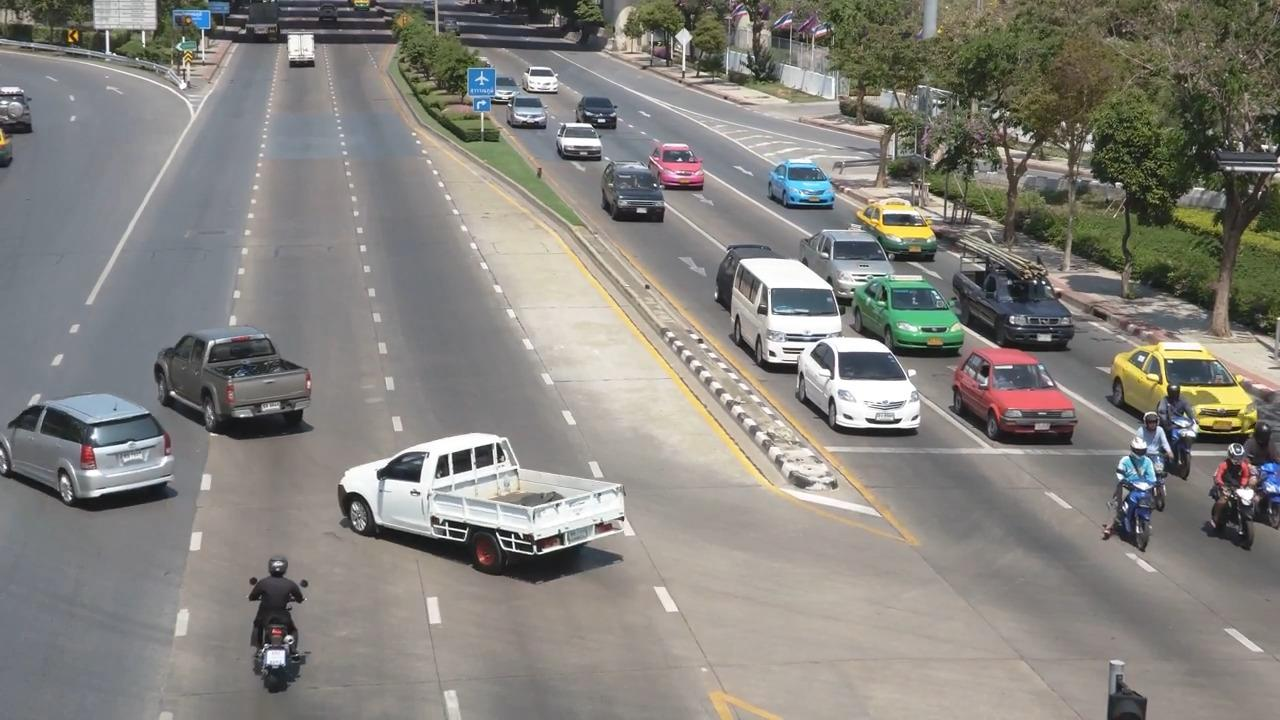CAR: (328, 421, 649, 593), (0, 385, 185, 528), (150, 315, 322, 439), (1087, 317, 1255, 434), (945, 337, 1083, 453), (947, 232, 1079, 349), (793, 331, 931, 438), (731, 251, 844, 370), (852, 269, 969, 354), (801, 221, 890, 294), (851, 188, 938, 262), (595, 154, 666, 223), (743, 143, 819, 207), (269, 21, 332, 86), (639, 134, 713, 189), (0, 74, 42, 146), (573, 83, 628, 134), (553, 118, 609, 163), (519, 58, 567, 99), (503, 91, 551, 131)
MOTOR: (224, 553, 341, 697), (1188, 449, 1263, 551), (1102, 446, 1164, 545), (1126, 402, 1173, 493), (1155, 385, 1203, 474)
